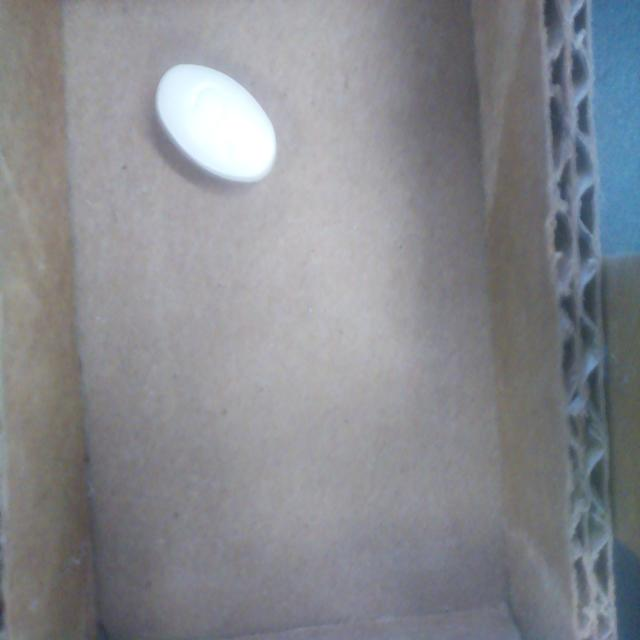pill: (154, 64, 277, 183)
